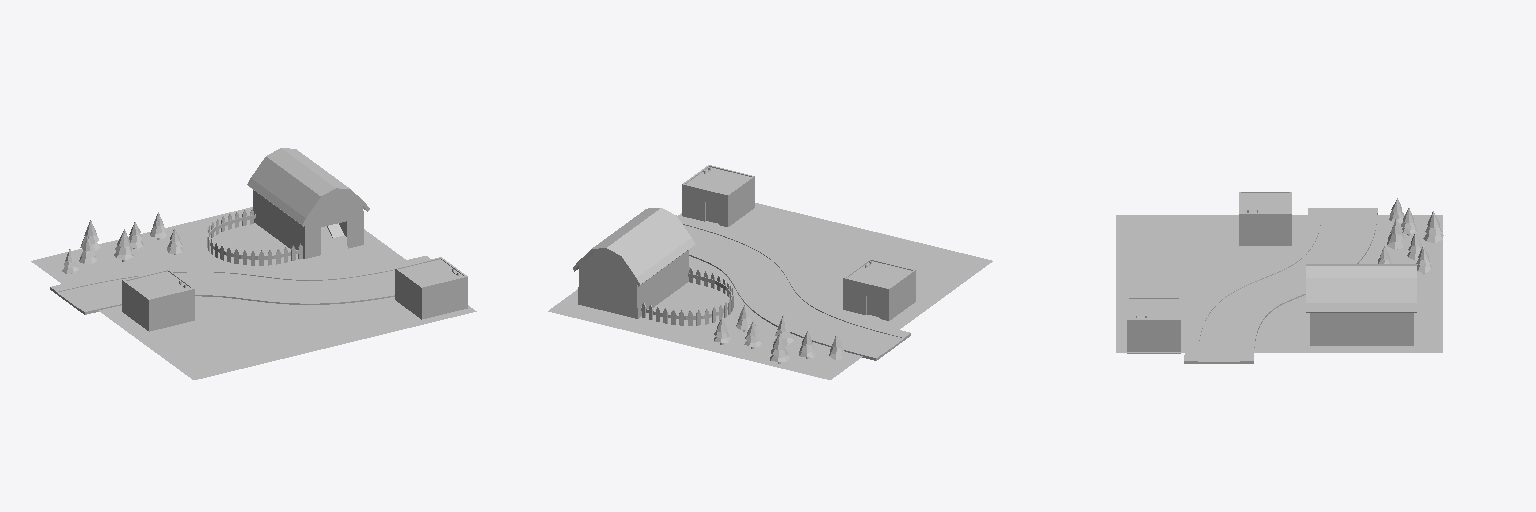
File: full_starting_map (1).obj
The picture shows the model from 3 angles: view 1: azimuth 30°, elevation 25°; view 2: azimuth 150°, elevation 25°; view 3: azimuth 270°, elevation 25°; orthographic projection.
Visible parts, largest first — view 1: Plane, Road, Barn, Building2, Building1, Barn_Fence; view 2: Plane, Road, Barn, Building1, Building2, Barn_Fence; view 3: Plane, Road, Barn, Building2, Building1.
Part boxes in pixels (bbox=[...]): Plane: bbox=[31, 207, 476, 379]; Road: bbox=[50, 256, 430, 314]; Barn: bbox=[247, 148, 369, 258]; Building2: bbox=[395, 257, 467, 319]; Building1: bbox=[122, 269, 194, 331]; Barn_Fence: bbox=[207, 209, 302, 265]; Plane: bbox=[548, 203, 992, 379]; Road: bbox=[676, 215, 910, 360]; Barn: bbox=[573, 208, 695, 318]; Building1: bbox=[843, 259, 915, 320]; Building2: bbox=[682, 165, 754, 226]; Barn_Fence: bbox=[641, 267, 733, 325]; Plane: bbox=[1116, 215, 1442, 352]; Road: bbox=[1184, 208, 1377, 363]; Barn: bbox=[1306, 264, 1416, 345]; Building2: bbox=[1127, 297, 1180, 353]; Building1: bbox=[1239, 192, 1291, 245].
Bounding box in the file's own units: 65.84 × 14.14 × 59.34.